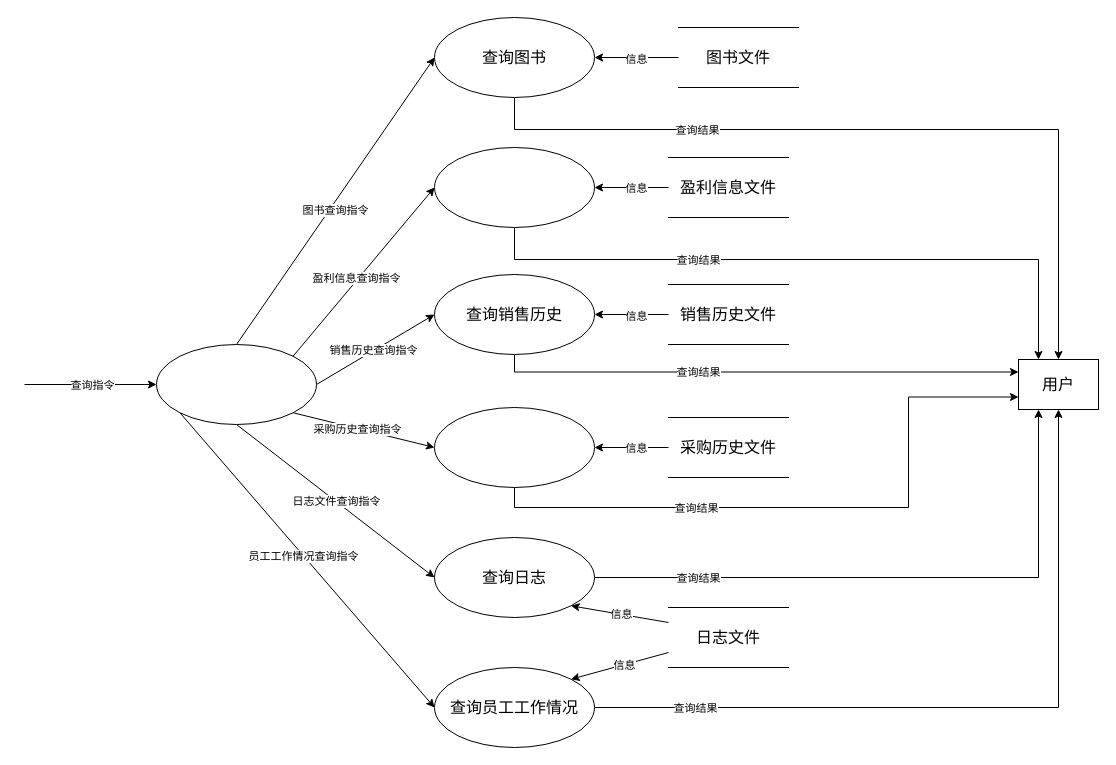
Image size: 1116x765. Some labels were removed from this diagram. Each missing label, with the centre of its shape:
"查询盈利信息" goes at point (514, 187).
"查询采购历史" goes at point (514, 447).
"识别查询指令" goes at point (236, 384).
